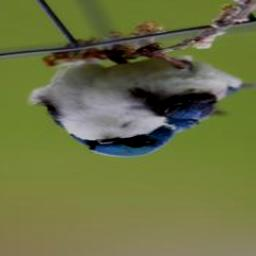Swallow: (25, 42, 256, 158)
